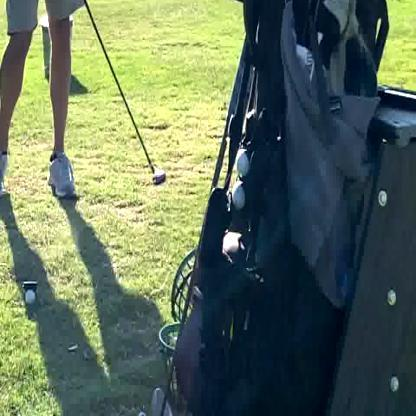GolfBall: (148, 160, 167, 187)
